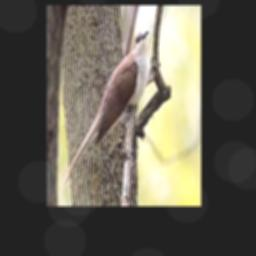Cuckoo: (60, 30, 149, 189)
